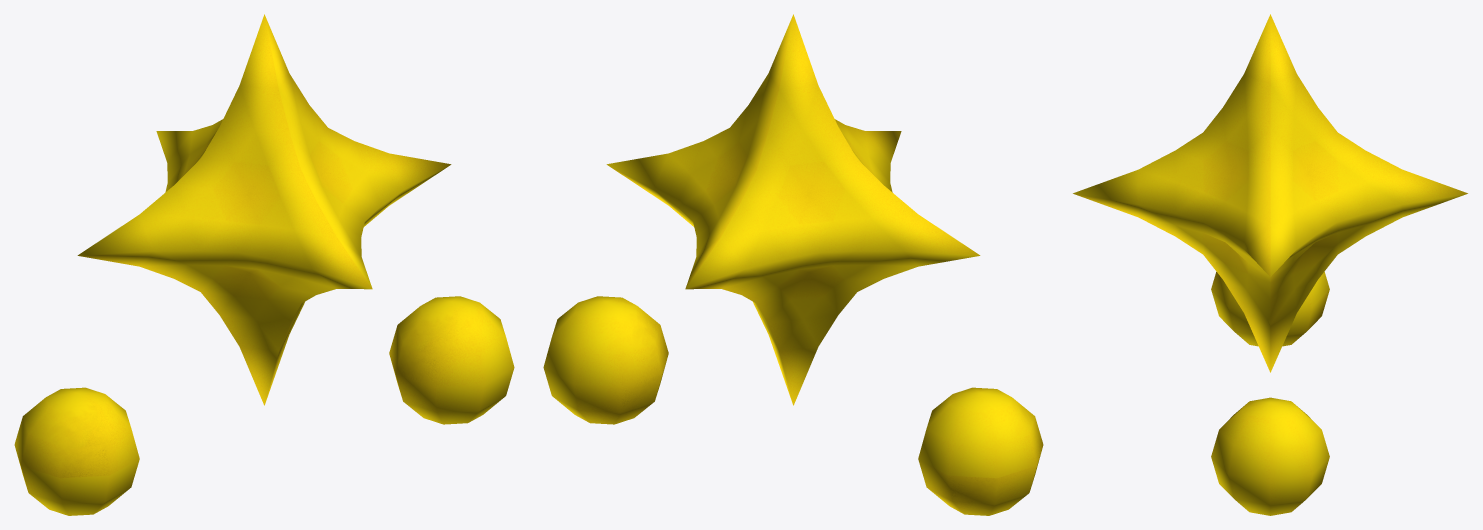
Rendered from yellow_powerup.fbx.
The picture shows the model from 3 angles, left to right: view 1: azimuth 30°, elevation 25°; view 2: azimuth 150°, elevation 25°; view 3: azimuth 270°, elevation 25°; orthographic projection. The views are drawn at different scales.
Parts seen in each view (by area): view 1: Cube_001; view 2: Cube_001; view 3: Cube_001.
Part boxes in pixels (x1,y1,x2,y2): Cube_001: [14, 14, 514, 515]; Cube_001: [543, 14, 1043, 515]; Cube_001: [1073, 14, 1467, 515].
Size of the model in its own units: 2.6 by 2.3 by 2.
1 material, 1 textured.
